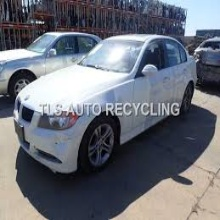no damage: (13, 33, 199, 173), (1, 29, 106, 98)
